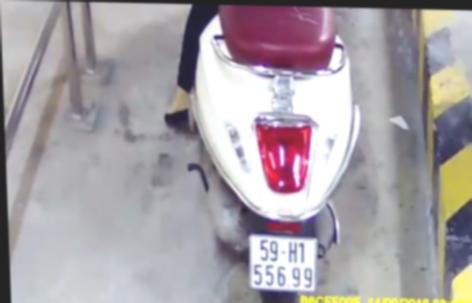License_Plate: (243, 229, 330, 299)
